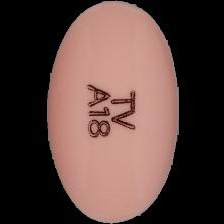0093-5353: (0, 0, 224, 224)
